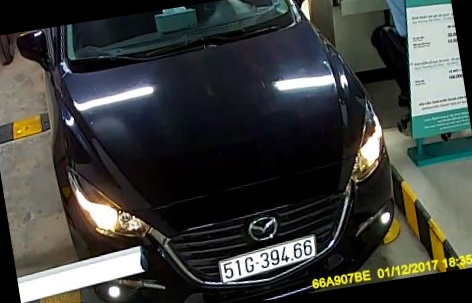plate: (204, 222, 319, 280)
